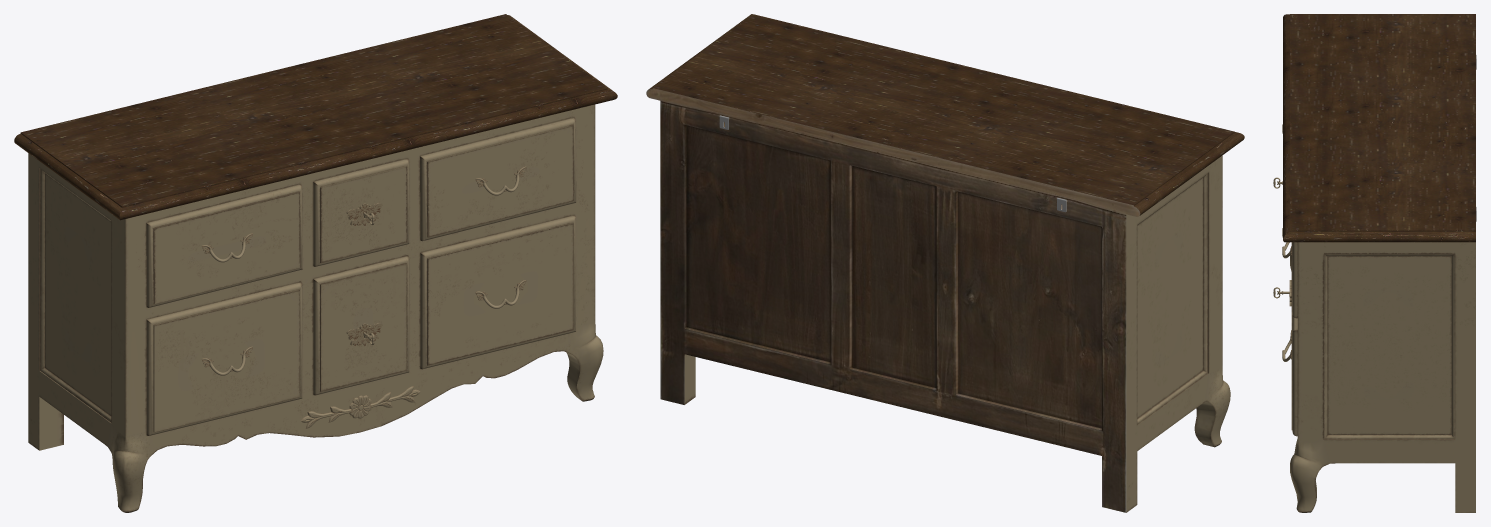
File: example108.gltf
3 renders of one model, left to right at view 1: azimuth 30°, elevation 25°; view 2: azimuth 150°, elevation 25°; view 3: azimuth 270°, elevation 25°, orthographic. The views are drawn at different scales.
Size of the model in its own units: 142 by 85 by 54.82.
4 materials, 3 textured.
